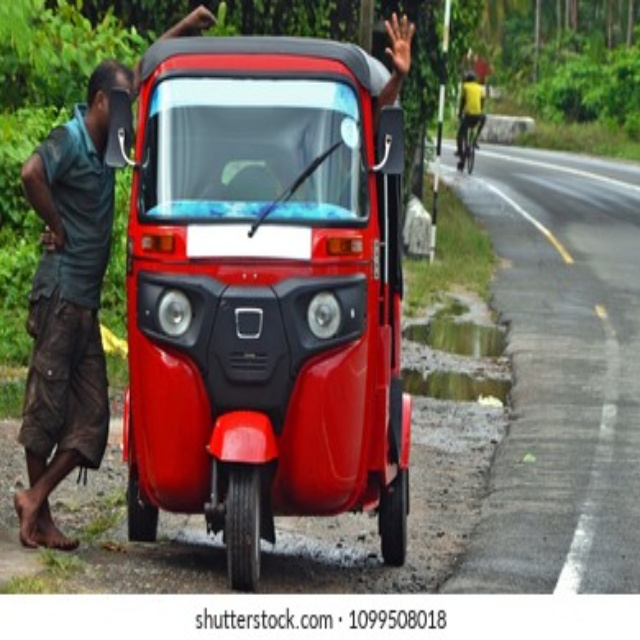Motorcycle: (110, 34, 410, 594)
